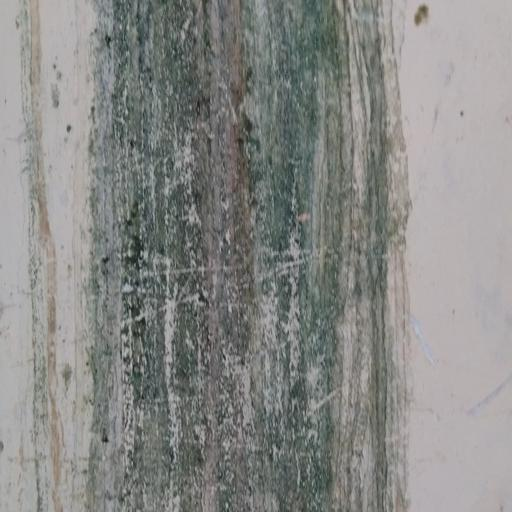algae: (56, 1, 420, 512)
